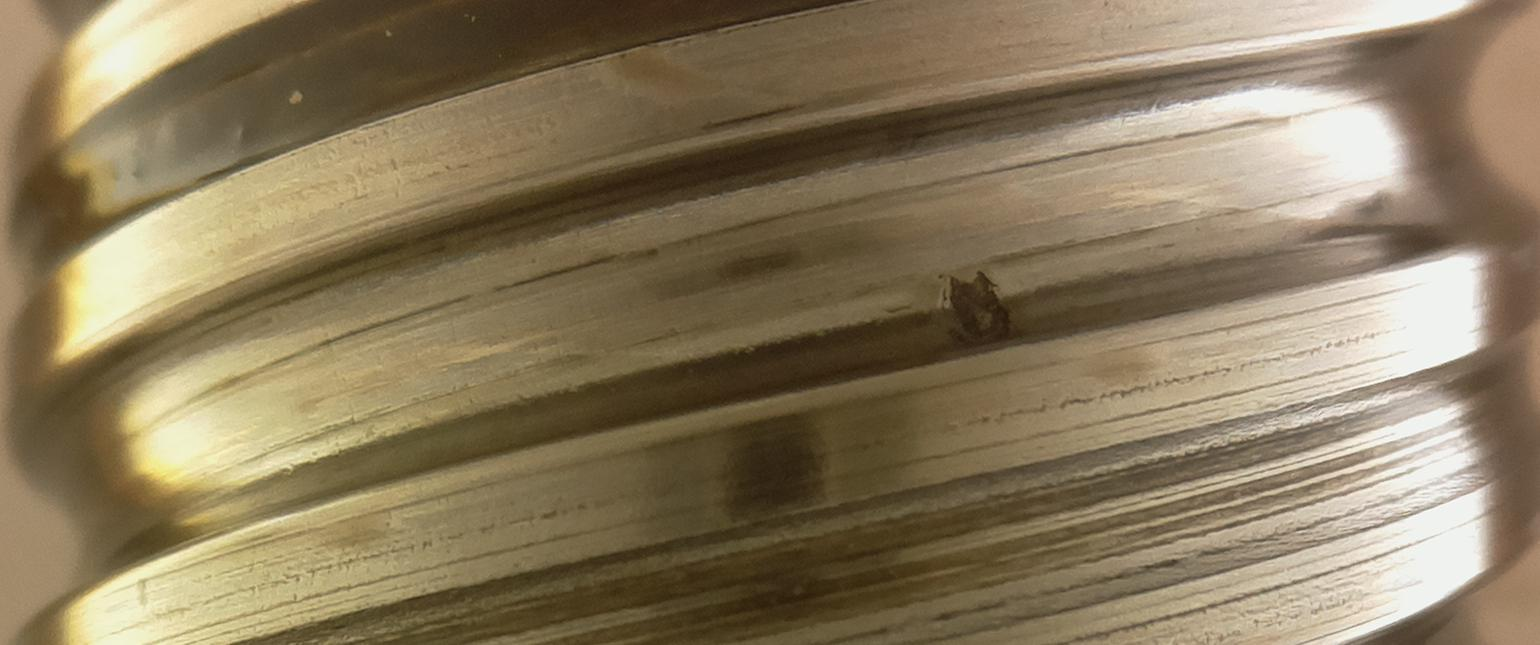pitting: (942, 272, 1011, 348)
